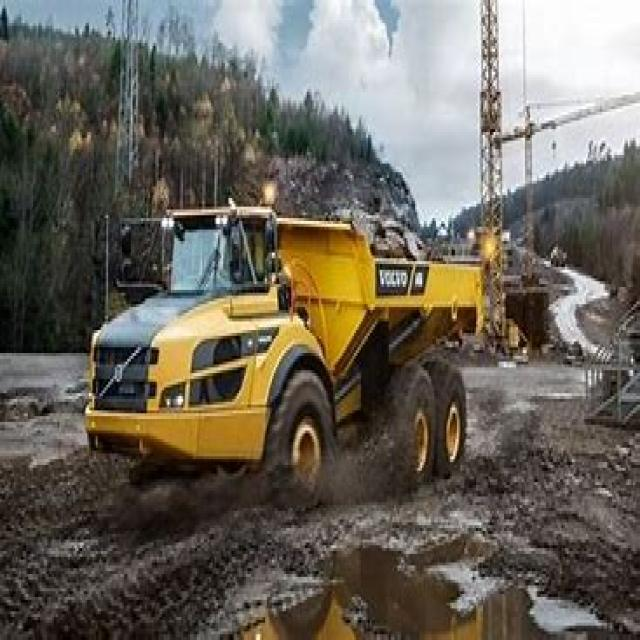dump_truck: (85, 181, 485, 505)
